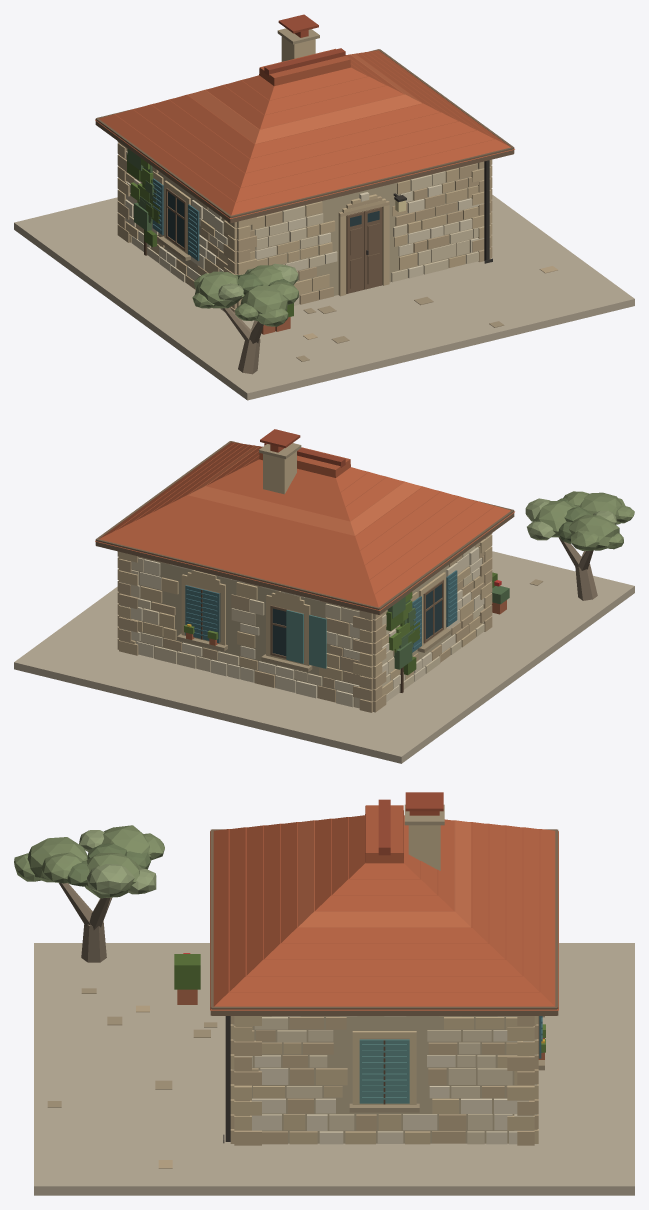
File: ev-tas-tek-katli.glb
The picture shows the model from 3 angles, top to bottom: view 1: azimuth 30°, elevation 25°; view 2: azimuth 150°, elevation 25°; view 3: azimuth 270°, elevation 25°; orthographic projection. The views are drawn at different scales.
Parts seen in each view (by area): view 1: zemin, kiremit1, tas2, ahsap, tas3, tas1, harc, tas4, zeytin1, kiremit3, kiremit4, kabuk (+7 smaller); view 2: zemin, kiremit1, tas2, tas3, tas4, ahsap, tas1, harc, kiremit3, zeytin1, kepenk, kepenk2 (+9 smaller); view 3: zemin, kiremit1, tas2, tas3, harc, tas4, kiremit3, tas1, ahsap, zeytin1, kepenk2, zeytin2 (+6 smaller).
Boxes of the visible parts, x1,y1,x2,y2 form: zemin: (14, 195, 634, 400); kiremit1: (95, 48, 514, 218); tas2: (117, 36, 492, 308); ahsap: (95, 49, 514, 293); tas3: (117, 141, 557, 339); tas1: (125, 151, 483, 311); harc: (127, 151, 477, 304); tas4: (124, 179, 484, 305); zeytin1: (192, 265, 298, 326); kiremit3: (188, 54, 421, 143); kiremit4: (264, 14, 345, 75); kabuk: (222, 307, 263, 374); zemin: (14, 551, 634, 763); kiremit1: (95, 442, 514, 610); tas2: (117, 451, 492, 695); tas3: (117, 533, 492, 712); tas4: (120, 547, 484, 707); ahsap: (95, 441, 514, 662); tas1: (120, 545, 484, 708); harc: (131, 546, 482, 706); kiremit3: (188, 445, 421, 535); zeytin1: (533, 491, 634, 550); kepenk: (185, 570, 457, 652); kepenk2: (286, 610, 326, 668); zemin: (34, 943, 634, 1195); kiremit1: (210, 805, 558, 1010); tas2: (230, 825, 538, 1144); tas3: (136, 1005, 538, 1168); harc: (252, 1016, 517, 1143); tas4: (251, 1016, 537, 1144); kiremit3: (297, 820, 471, 927); tas1: (232, 1016, 537, 1144); ahsap: (210, 829, 558, 1058); zeytin1: (14, 825, 164, 898); kepenk2: (359, 1039, 409, 1103); zeytin2: (79, 830, 156, 894).
Bounding box in the file's own units: 12.1 × 6.15 × 12.4.
